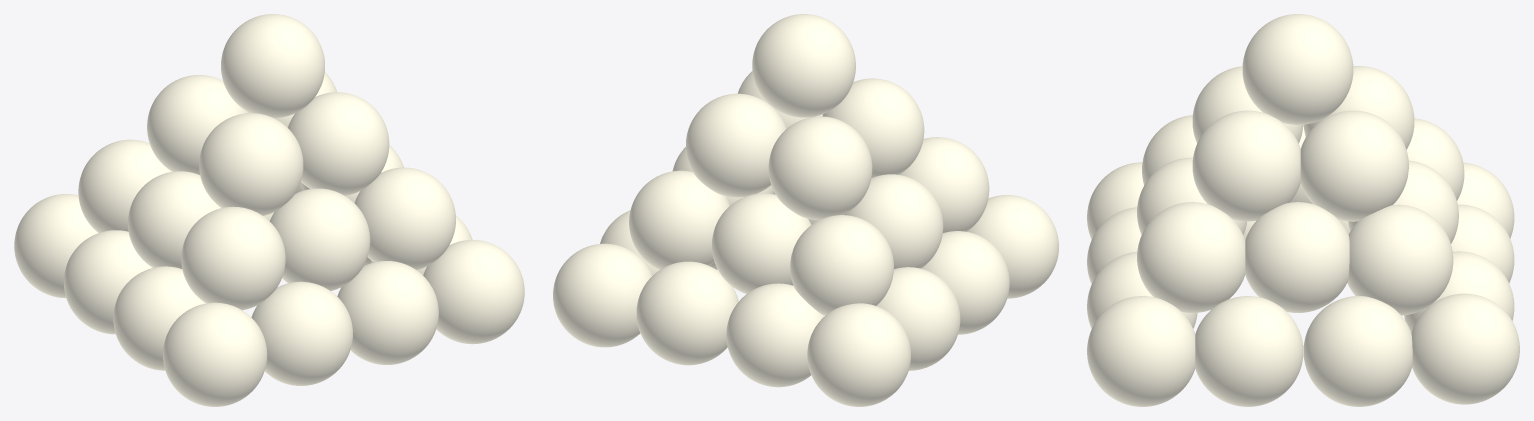
The model's file is dialogue.glb.
3 views of the same model, side by side, from view 1: azimuth 30°, elevation 25°; view 2: azimuth 150°, elevation 25°; view 3: azimuth 270°, elevation 25° (orthographic). The views are drawn at different scales.
Size of the model in its own units: 0.077 by 0.063 by 0.078.
